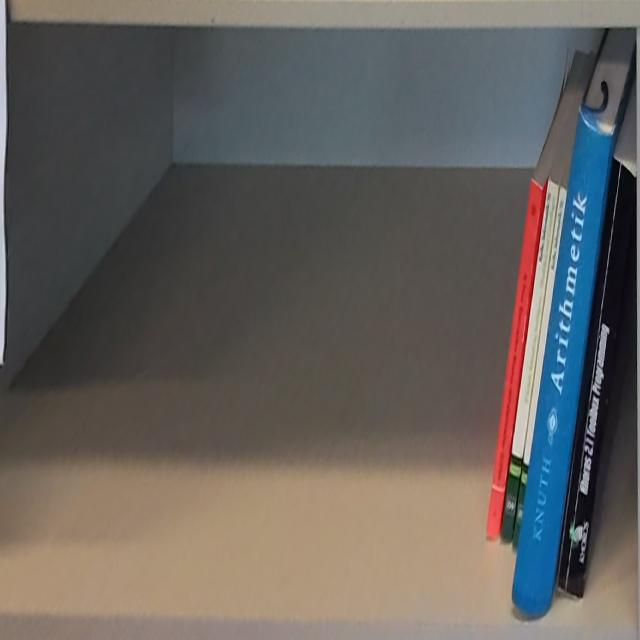Book Spine: (511, 102, 615, 618), (557, 153, 636, 602), (497, 179, 559, 543), (486, 179, 543, 538), (511, 184, 566, 547)
